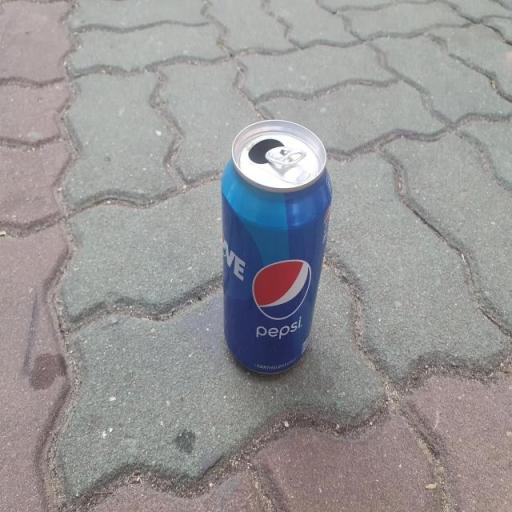metal: (200, 66, 350, 382)
